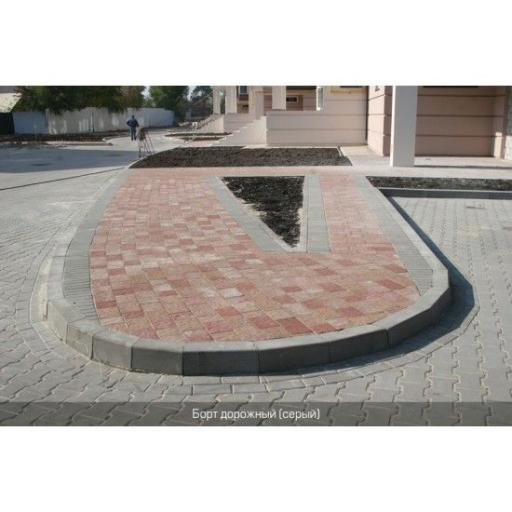construction_fence: (44, 166, 451, 375), (379, 188, 511, 200)
